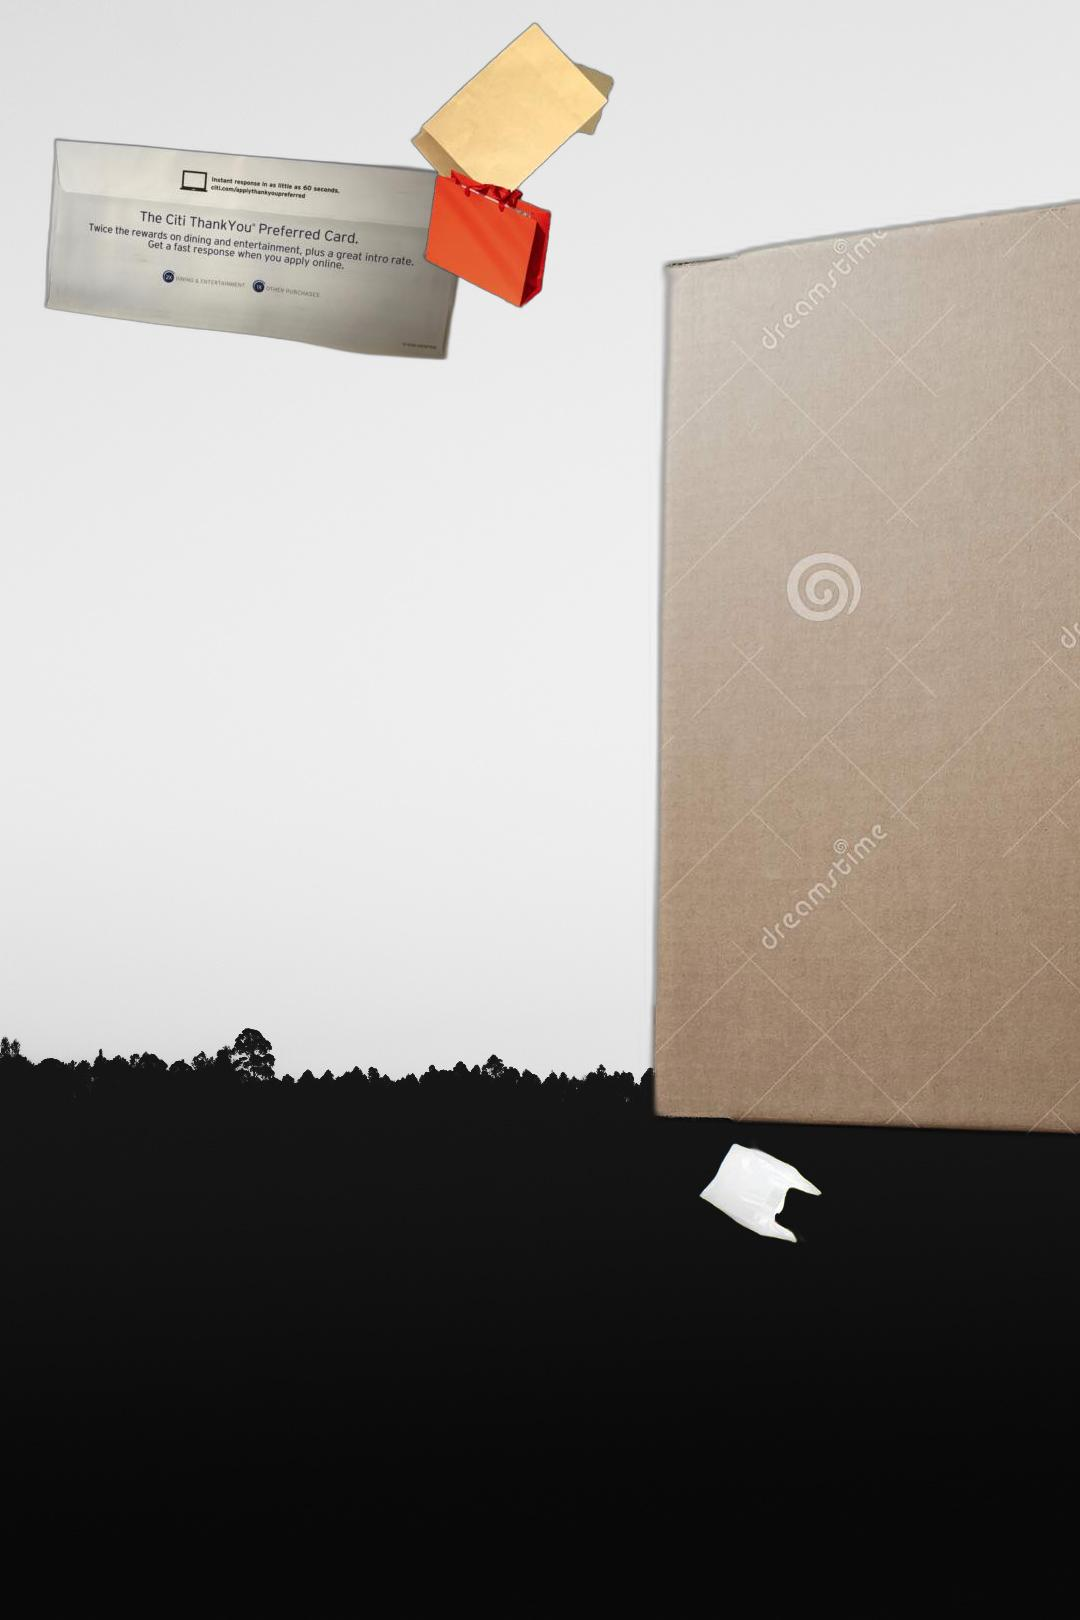paper: (40, 136, 474, 362)
paper-bag: (407, 20, 617, 311)
plastic-bag: (668, 1066, 875, 1305)
trashbox-cardboard: (638, 168, 1080, 1157)
